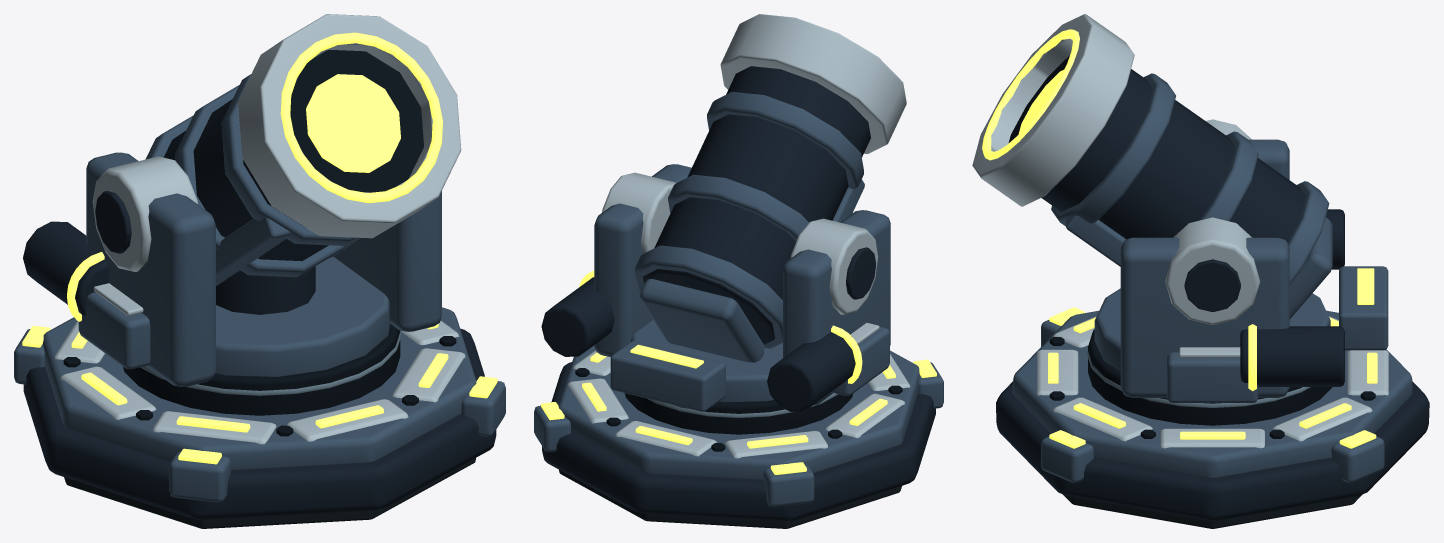
The model's file is siege_mortar.fbx.
The picture shows the model from 3 angles, left to right: view 1: azimuth 30°, elevation 25°; view 2: azimuth 150°, elevation 25°; view 3: azimuth 270°, elevation 25°; orthographic projection. The views are drawn at different scales.
Parts seen in each view (by area): view 1: Base_Geometry, Recoil_Geometry, Yaw_Geometry, Tier3_Cooling_Geometry, Apex_sector_3_Geometry, Apex_sector_0_Geometry, Apex_sector_2_Geometry, Tier2_Light_07_Geometry, Tier3_Light_06_Geometry; view 2: Recoil_Geometry, Base_Geometry, Yaw_Geometry, Tier2_Capacitor_Geometry, Apex_sector_2_Geometry, Tier3_Cooling_Geometry, Apex_sector_1_Geometry, Apex_sector_3_Geometry, Tier3_Light_05_Geometry; view 3: Base_Geometry, Recoil_Geometry, Yaw_Geometry, Tier3_Cooling_Geometry, Tier2_Capacitor_Geometry, Apex_sector_1_Geometry, Apex_sector_0_Geometry, Apex_sector_3_Geometry, Tier3_Light_02_Geometry.
Boxes of the visible parts, x1,y1,x2,y2 form: Base_Geometry: (23,307,496,528); Recoil_Geometry: (145,14,461,285); Yaw_Geometry: (23,152,441,386); Tier3_Cooling_Geometry: (78,283,150,369); Apex_sector_3_Geometry: (169,448,230,502); Apex_sector_0_Geometry: (461,376,505,436); Apex_sector_2_Geometry: (14,325,50,384); Tier2_Light_07_Geometry: (176,416,250,432); Tier3_Light_06_Geometry: (81,372,127,405); Recoil_Geometry: (635,14,906,362); Base_Geometry: (542,345,935,528); Yaw_Geometry: (541,164,890,411); Tier2_Capacitor_Geometry: (610,341,725,411); Apex_sector_2_Geometry: (763,462,814,506); Tier3_Cooling_Geometry: (831,323,889,395); Apex_sector_1_Geometry: (534,402,570,452); Apex_sector_3_Geometry: (913,359,943,408); Tier3_Light_05_Geometry: (747,435,808,448); Base_Geometry: (996,310,1429,528); Recoil_Geometry: (972,14,1332,319); Yaw_Geometry: (1094,119,1344,397); Tier3_Cooling_Geometry: (1167,347,1258,402); Tier2_Capacitor_Geometry: (1339,266,1388,350); Apex_sector_1_Geometry: (1331,430,1384,482); Apex_sector_0_Geometry: (1041,430,1093,482); Apex_sector_3_Geometry: (1041,307,1085,346); Tier3_Light_02_Geometry: (1180,431,1245,439).
Size of the model in its own units: 2.28 by 2.44 by 2.41.
